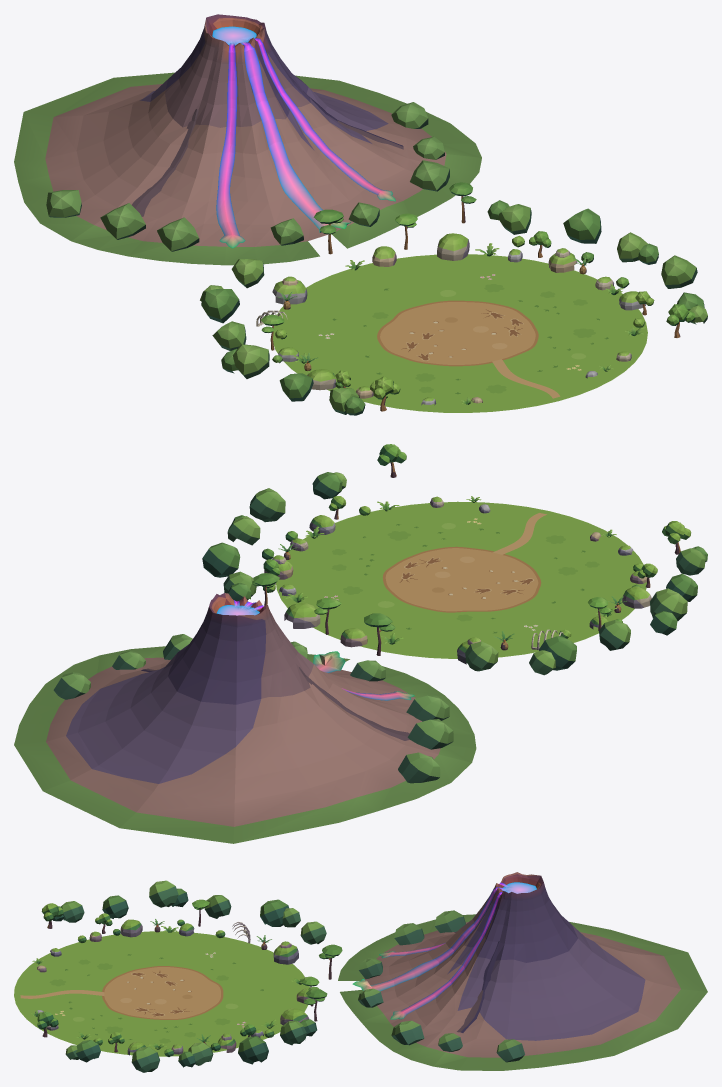
Rendered from TRex_Arena.glb.
3 renders of one model, top to bottom at view 1: azimuth 30°, elevation 25°; view 2: azimuth 150°, elevation 25°; view 3: azimuth 270°, elevation 25°, orthographic. The views are drawn at different scales.
Parts seen in each view (by area): view 1: Props, Floor, Lava; view 2: Props, Floor, Lava; view 3: Props, Floor, Lava.
Part boxes in pixels (<box>): Props: <box>14,14,707,415</box>; Floor: <box>273,254,647,412</box>; Lava: <box>212,26,395,248</box>; Props: <box>14,444,707,843</box>; Floor: <box>276,501,646,658</box>; Lava: <box>216,600,414,700</box>; Props: <box>31,872,707,1072</box>; Floor: <box>14,931,309,1056</box>; Lava: <box>352,882,536,1019</box>.
Size of what is drawn, in the model's own units: 219 by 68.62 by 369.
